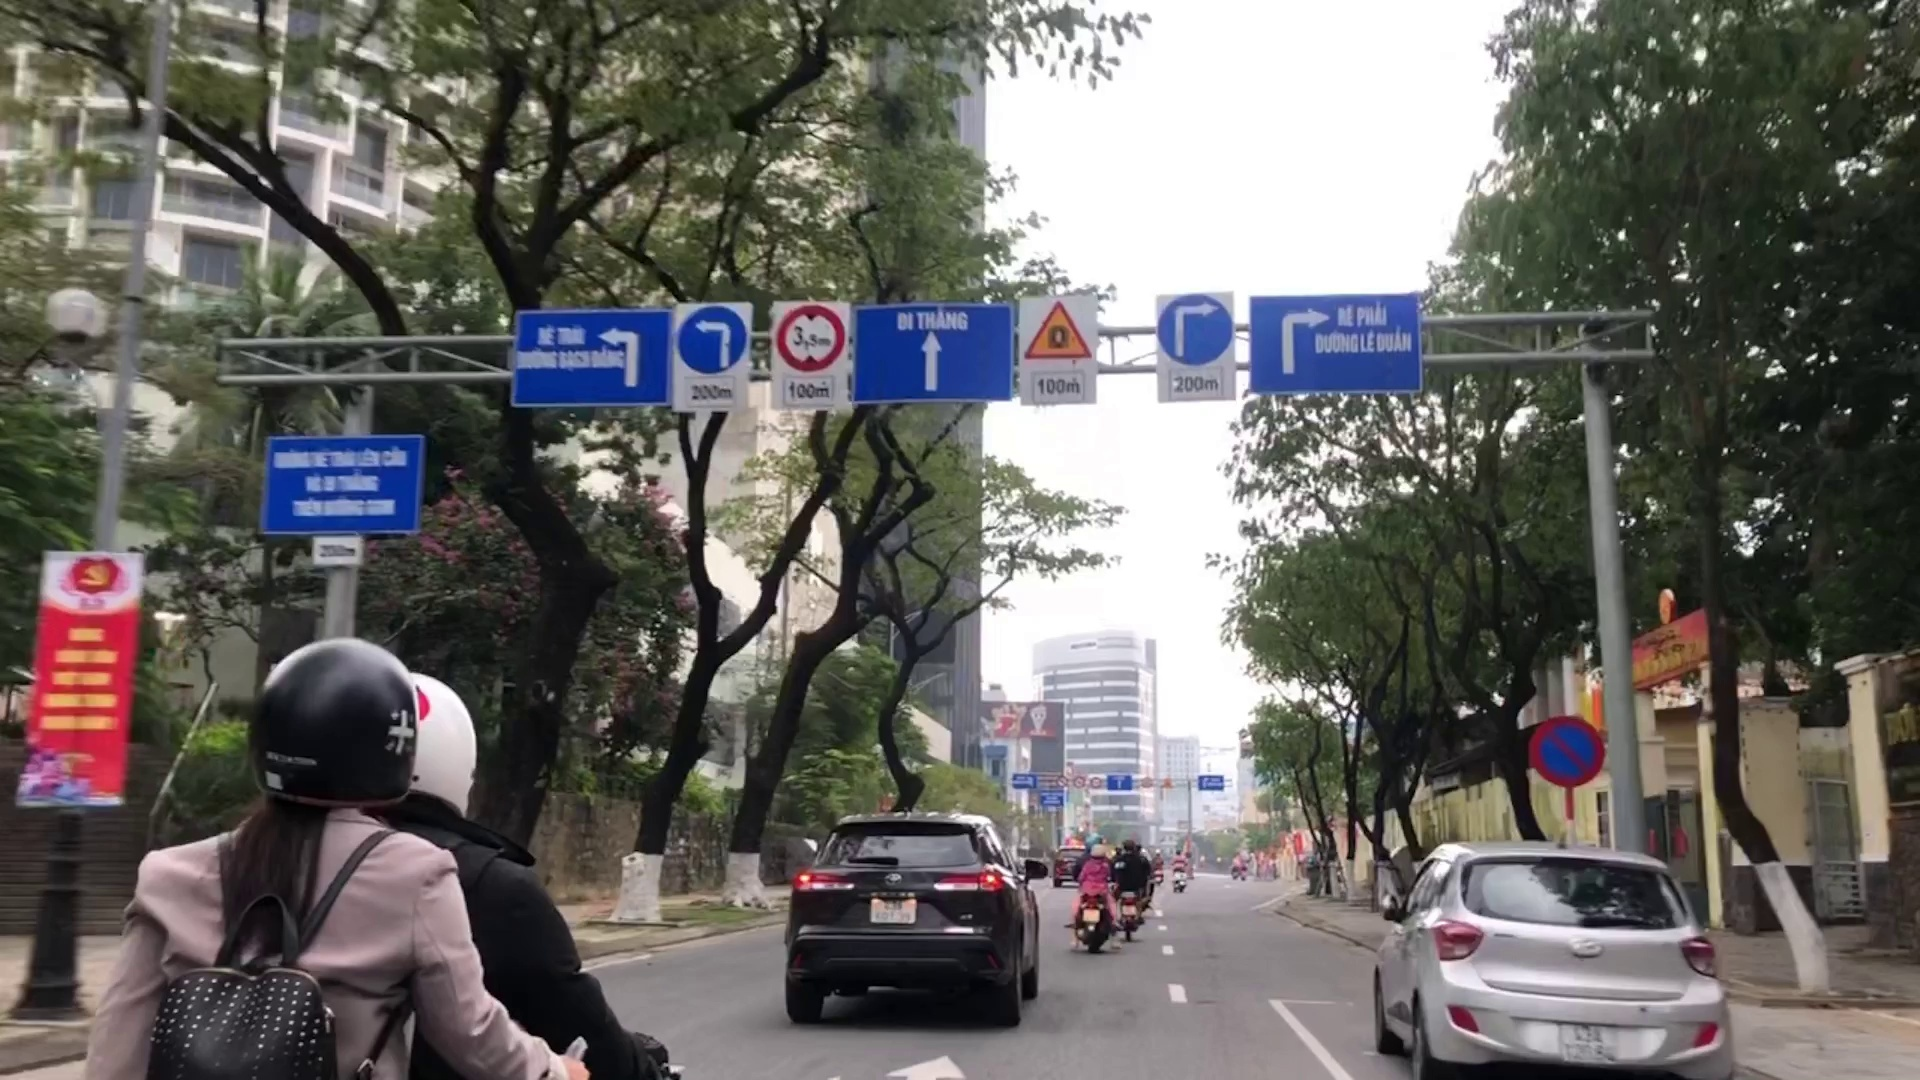Cam do xe: (1524, 708, 1606, 790)
